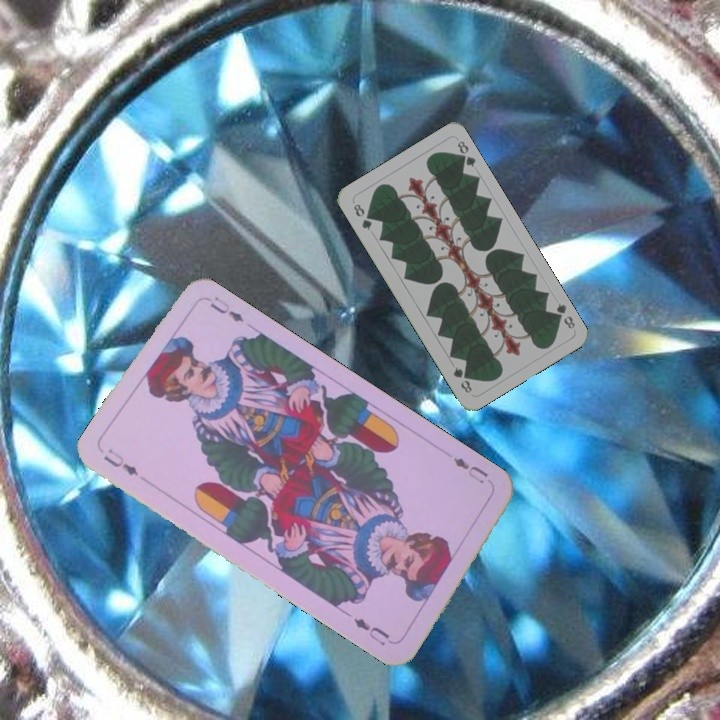EU: (449, 453, 491, 487), (99, 445, 141, 478)
G8: (549, 299, 578, 331), (349, 200, 375, 233)
